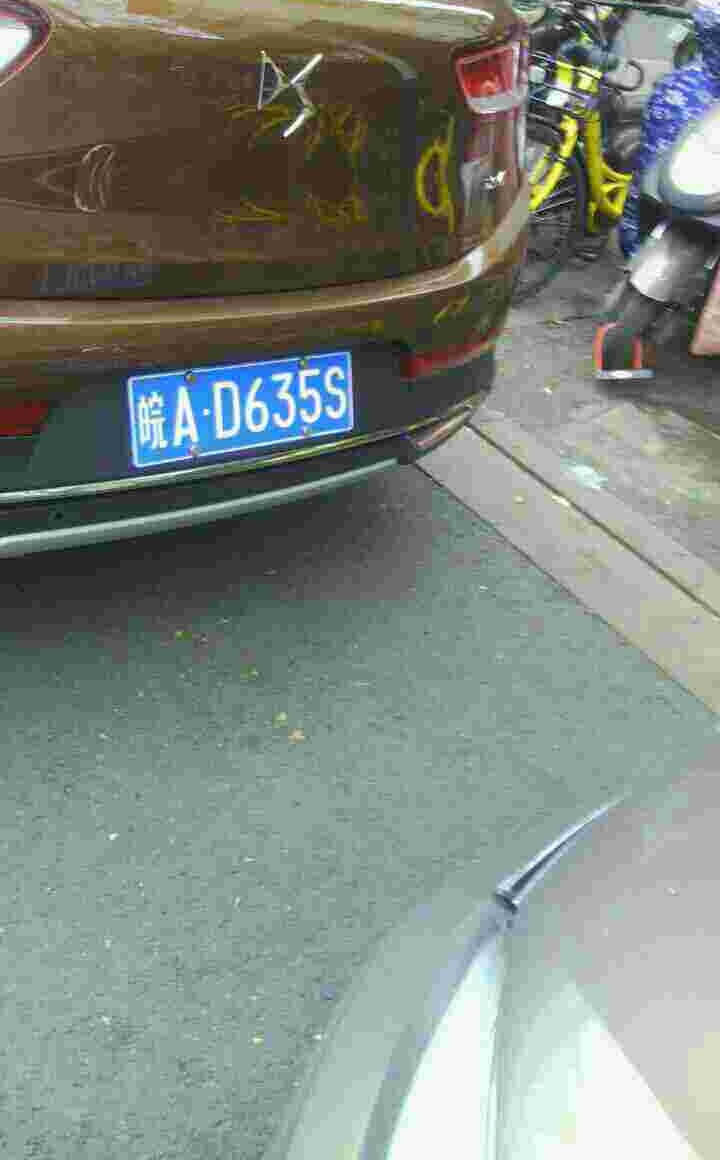license_plate: (130, 349, 356, 478)
